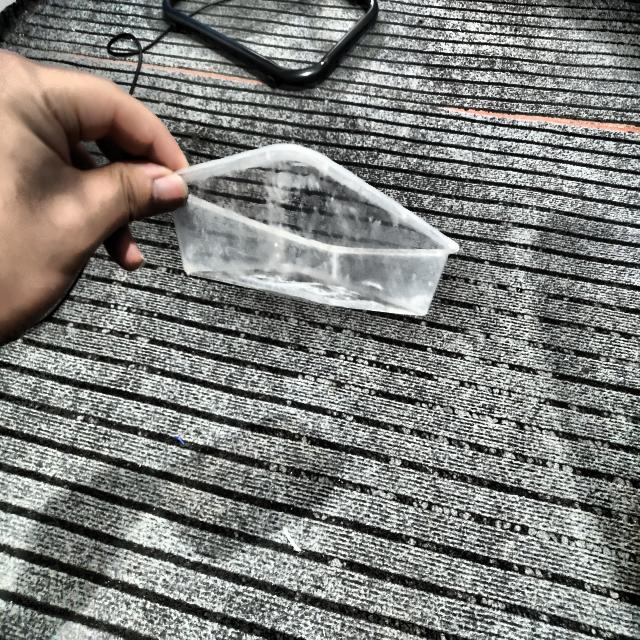plastic container: (174, 145, 459, 315)
